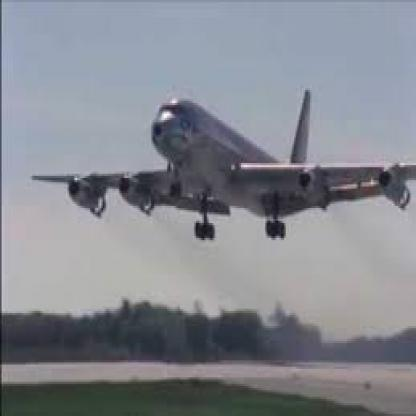Aircraft: (31, 88, 414, 240)
